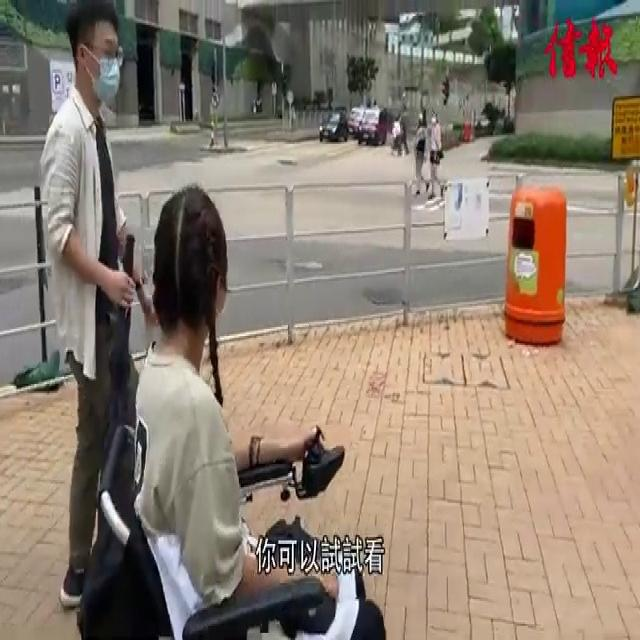wheelchairs: (75, 409, 385, 640)
